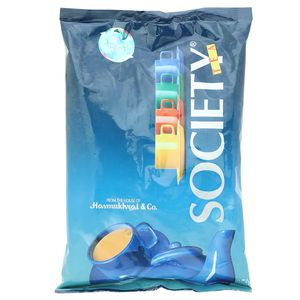society: (56, 6, 251, 295)
